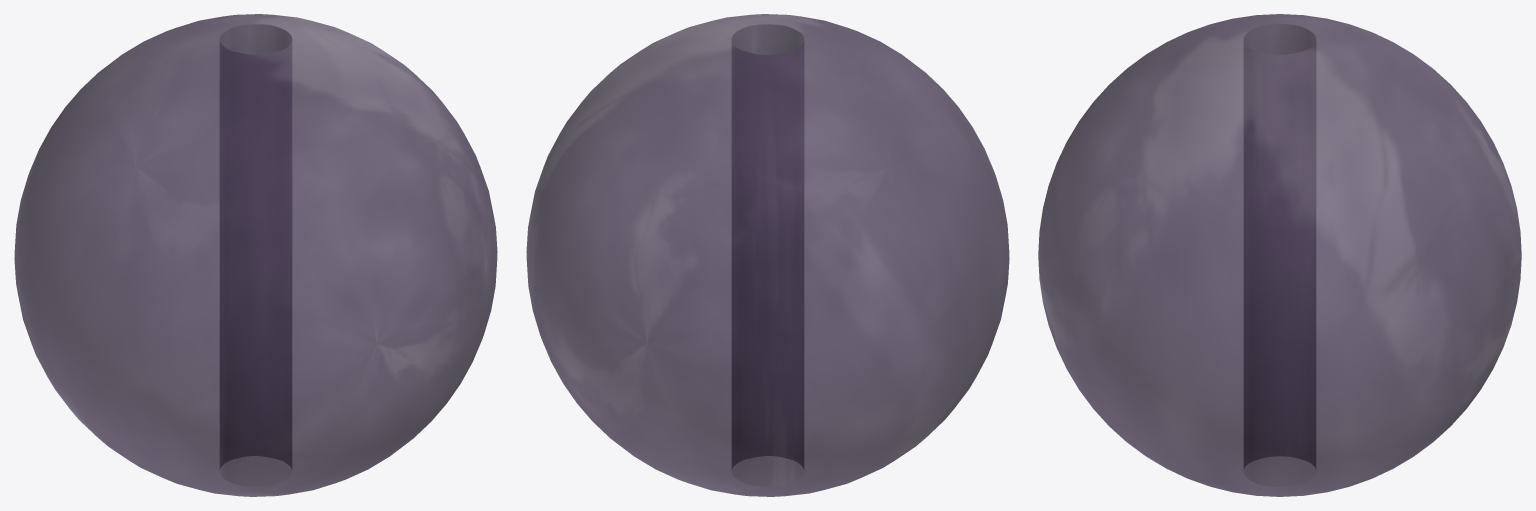
3 views of the same model, side by side, from view 1: azimuth 30°, elevation 25°; view 2: azimuth 150°, elevation 25°; view 3: azimuth 270°, elevation 25° (orthographic).
Size of the model in its own units: 0.008 by 0.0079 by 0.008.
Materials: 1 (1 with a texture image).
